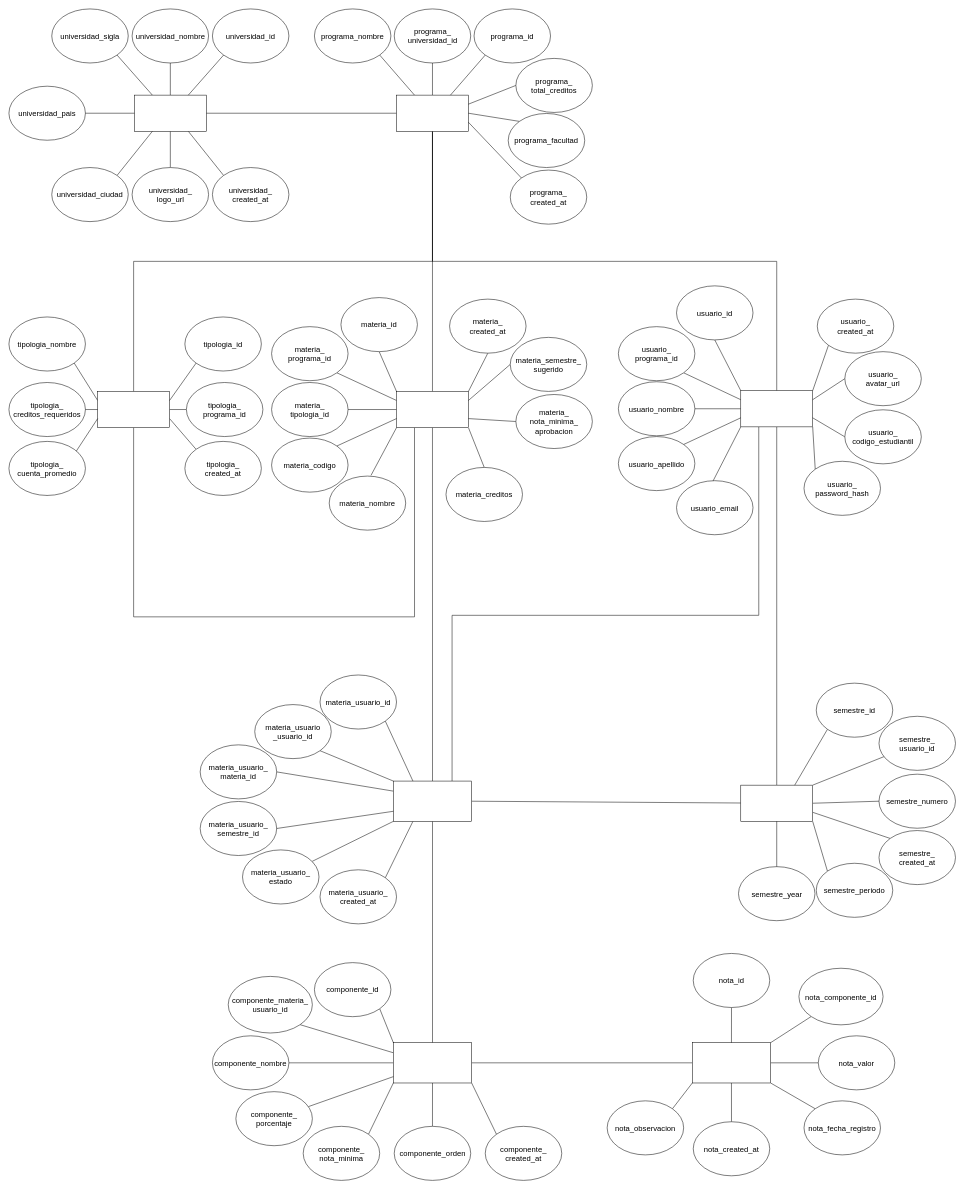
Image size: 964x1189. Some labels were removed from this diagram. The centre of each missing label's shape, as x and y in pixels:
Componente: pixel 432 1062
Materia: pixel 432 409
Materia_usuario: pixel 432 801
Nota: pixel 731 1062
Programa: pixel 432 113
Semestre: pixel 776 803
Tipologia: pixel 133 409
Universidad: pixel 170 113
Usuario: pixel 776 408
